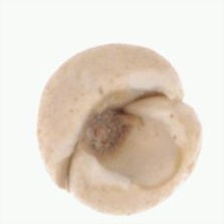L4: (38, 42, 201, 214)
